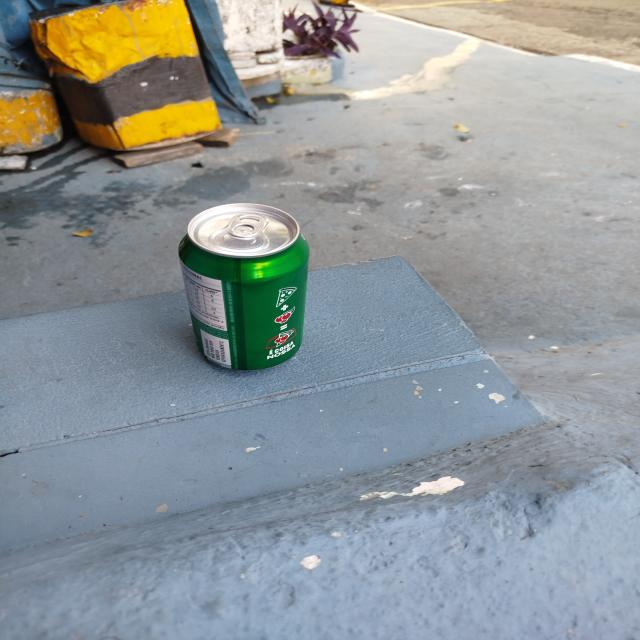Guarana: (179, 204, 311, 368)
